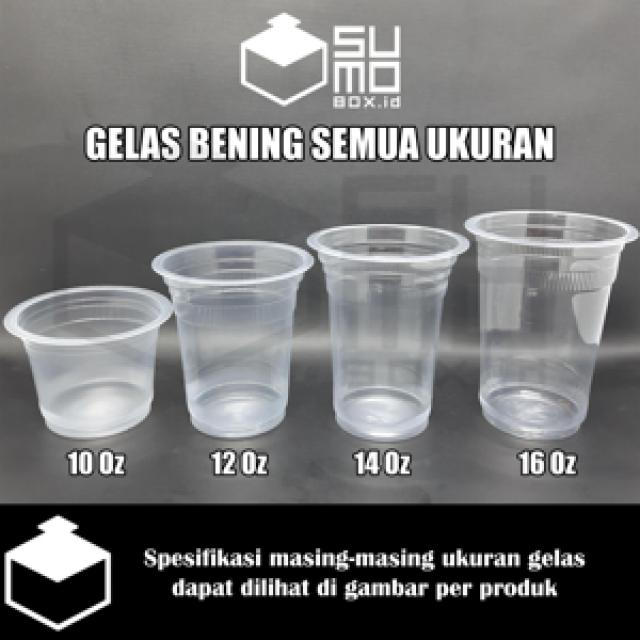plastic cup: (463, 203, 638, 448), (303, 218, 469, 450), (147, 235, 320, 446), (2, 280, 177, 450)
